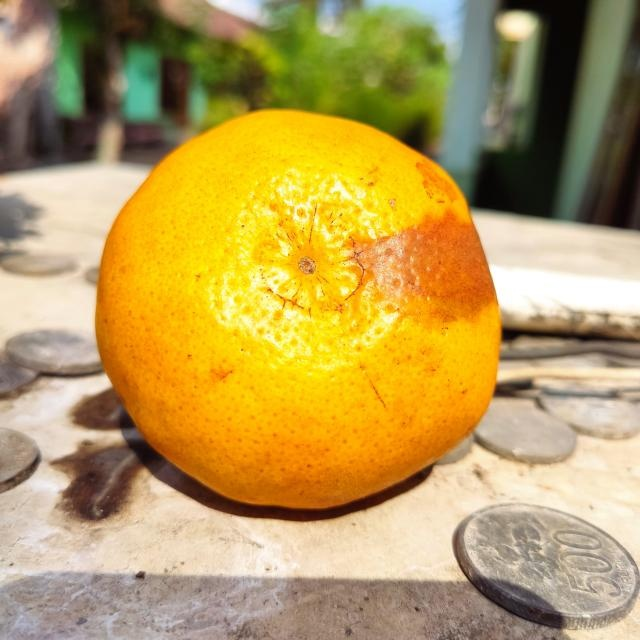agrume: (93, 107, 503, 511)
